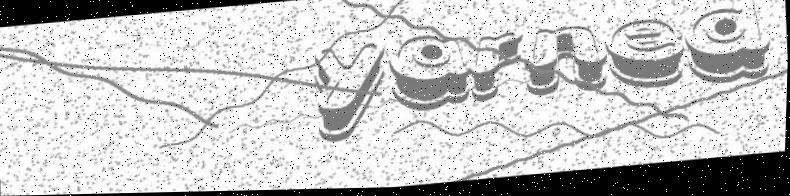a: (387, 32, 472, 119)
d: (680, 1, 774, 94)
e: (605, 18, 689, 96)
n: (523, 20, 612, 105)
r: (465, 30, 526, 107)
y: (306, 43, 393, 143)
